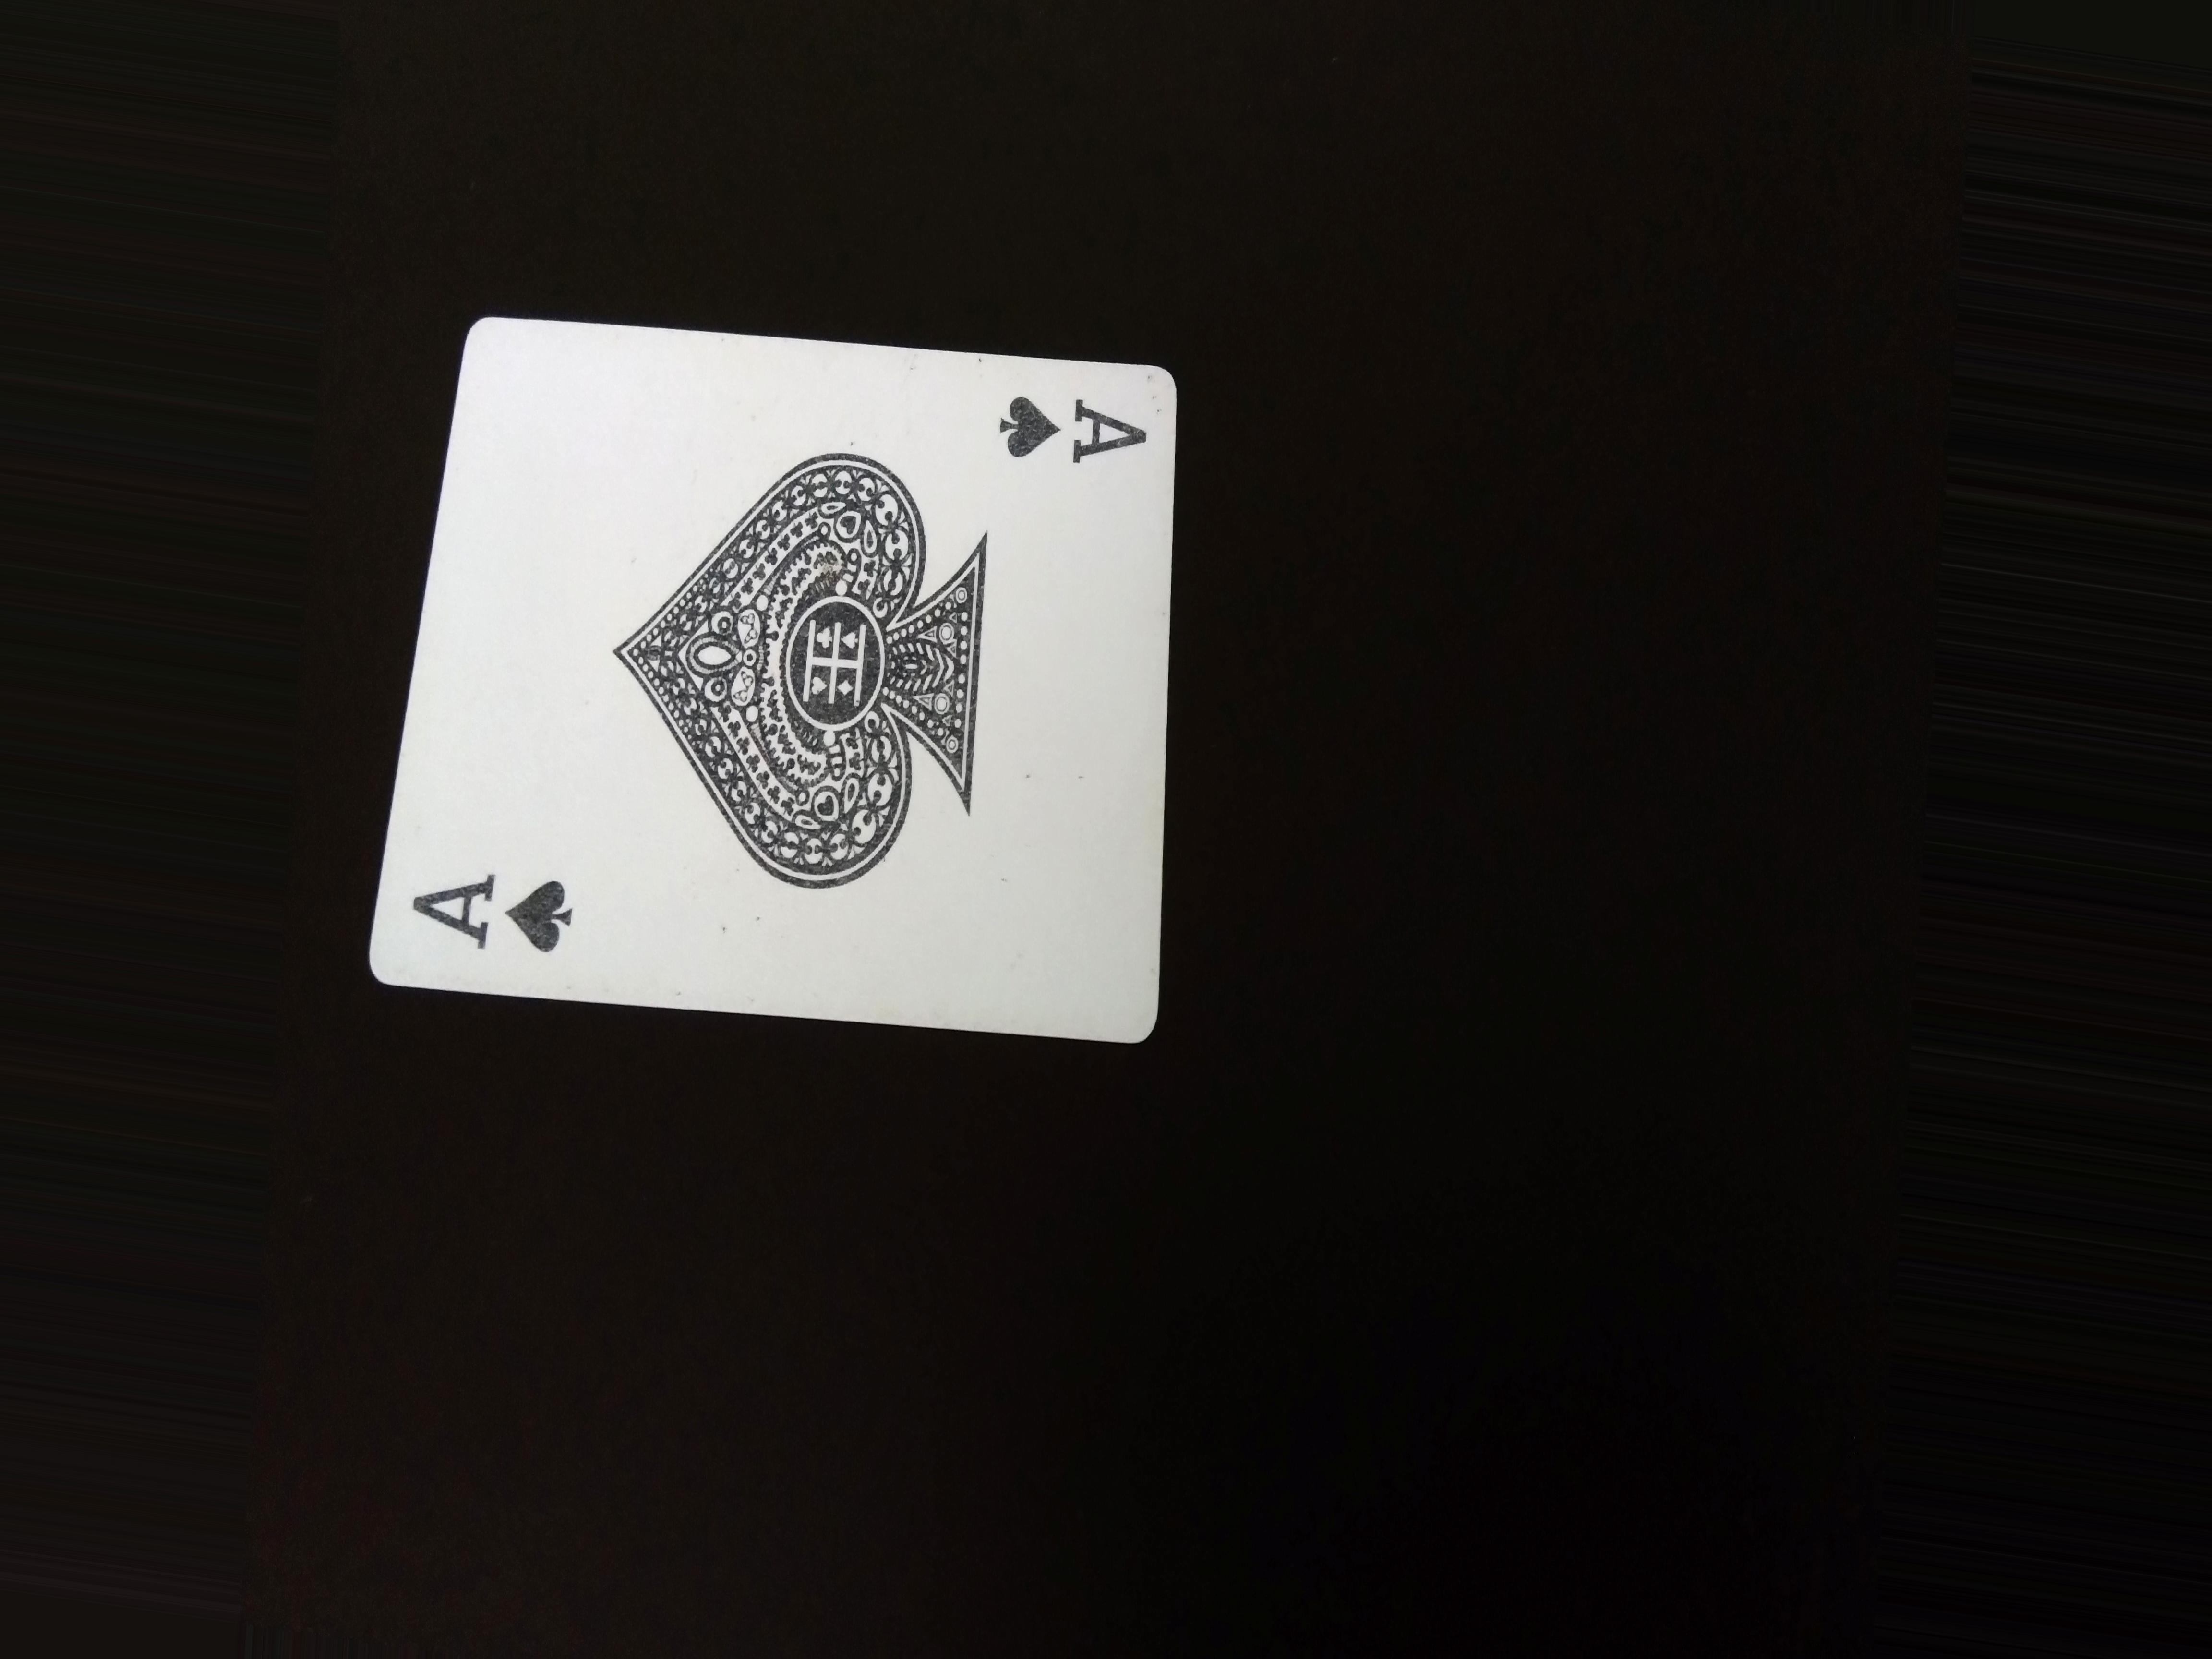AS: (392, 861, 592, 962)
